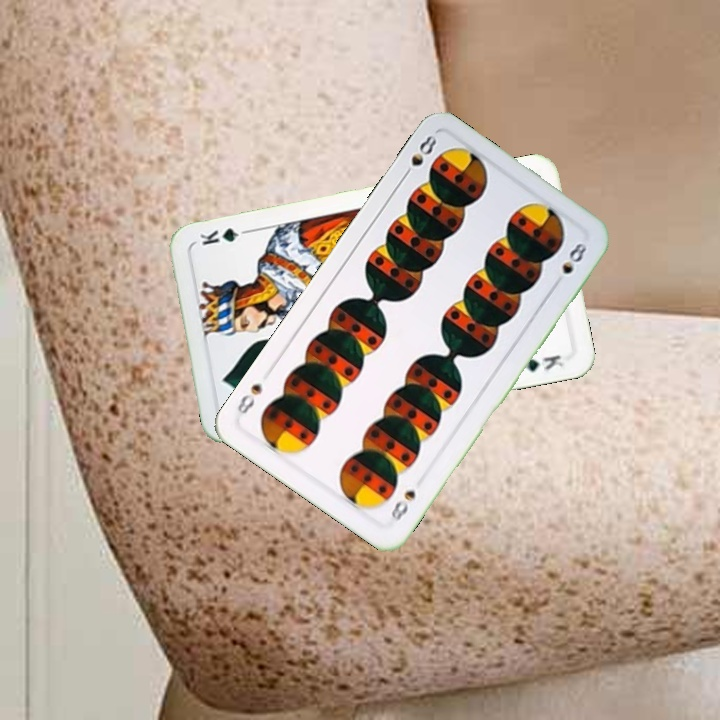S8: (398, 131, 440, 182), (386, 485, 419, 524)
